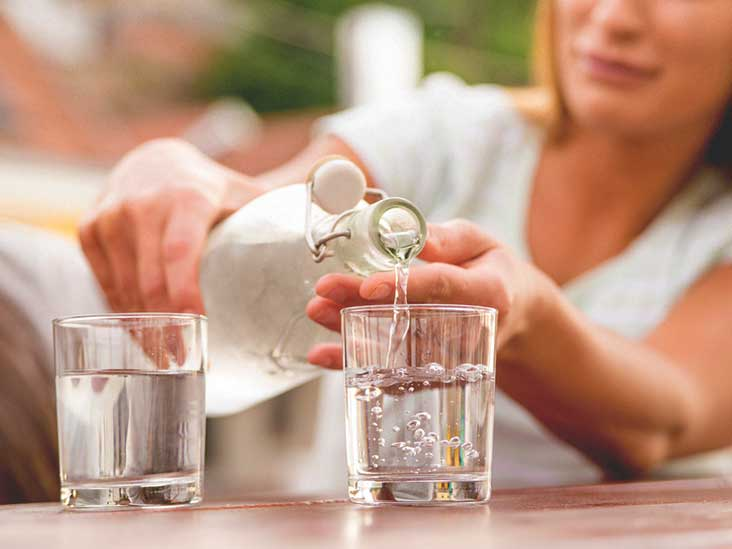glass of water: (33, 312, 217, 501), (341, 306, 496, 502)
